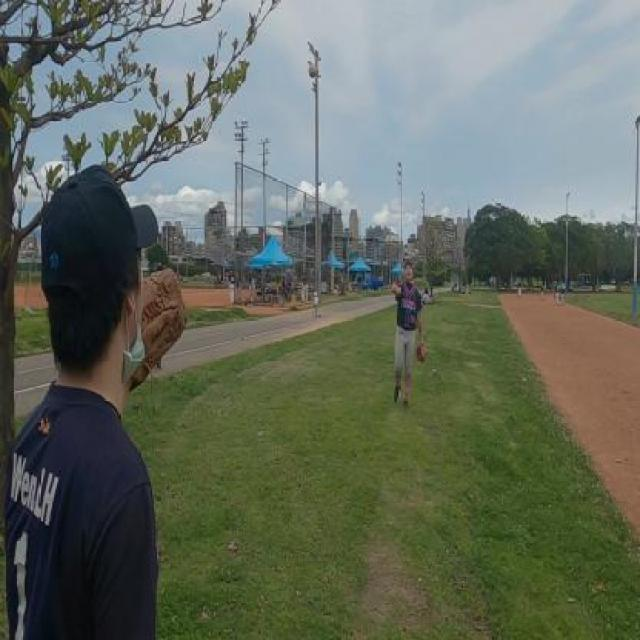baseball: (309, 64, 316, 78)
